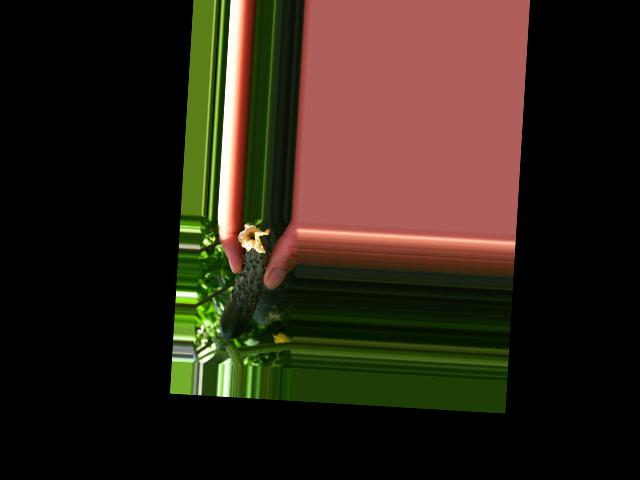cucumber: (219, 223, 270, 341)
